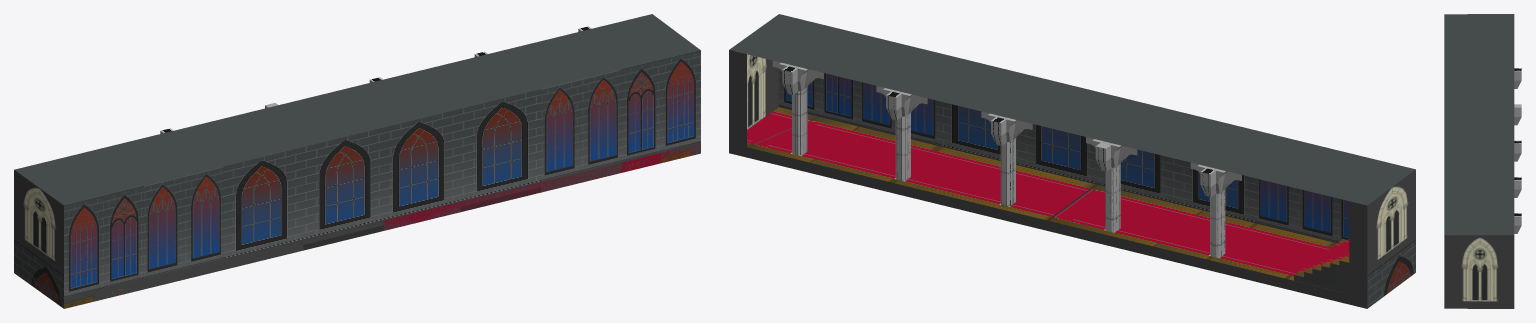
The picture shows the model from 3 angles, left to right: view 1: azimuth 30°, elevation 25°; view 2: azimuth 150°, elevation 25°; view 3: azimuth 270°, elevation 25°; orthographic projection. The views are drawn at different scales.
Visible parts, largest first — view 1: igreja; view 2: igreja, pilar.004, pilar, pilar.005, pilar.002, pilar.003; view 3: igreja, pilar.003, pilar.004, pilar, pilar.002, pilar.005.
Part boxes in pixels (left/top/right/bottom): igreja: left=14, top=14, right=700, bottom=308; igreja: left=729, top=14, right=1415, bottom=308; pilar.004: left=1086, top=137, right=1137, bottom=232; pilar: left=772, top=60, right=823, bottom=155; pilar.005: left=1190, top=162, right=1241, bottom=257; pilar.002: left=876, top=86, right=927, bottom=181; pilar.003: left=981, top=111, right=1032, bottom=206; igreja: left=1444, top=14, right=1514, bottom=308; pilar.003: left=1514, top=140, right=1521, bottom=161; pilar.004: left=1514, top=104, right=1521, bottom=125; pilar: left=1514, top=213, right=1521, bottom=233; pilar.002: left=1514, top=177, right=1521, bottom=197; pilar.005: left=1514, top=68, right=1521, bottom=88.
Size of the model in its own units: 2437 by 377 by 360.
